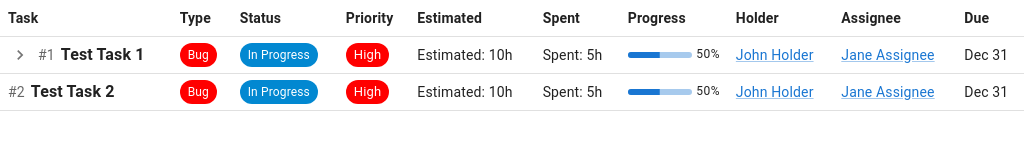
ProjectTaskList › shows expand arrow and subtasks when task has children
Check: the text "Subtask 1" is not shown
Click the button named "expand subtasks": (20, 55) 8,43 -> 32,67
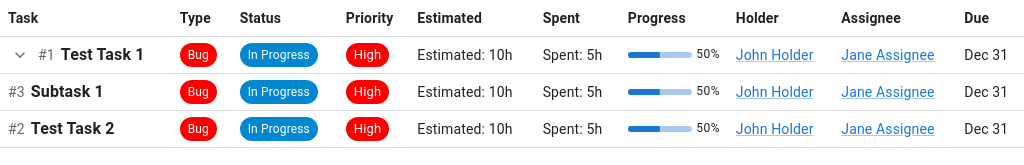
Check: the link "Subtask 1" is shown, box 31,80 -> 104,104
